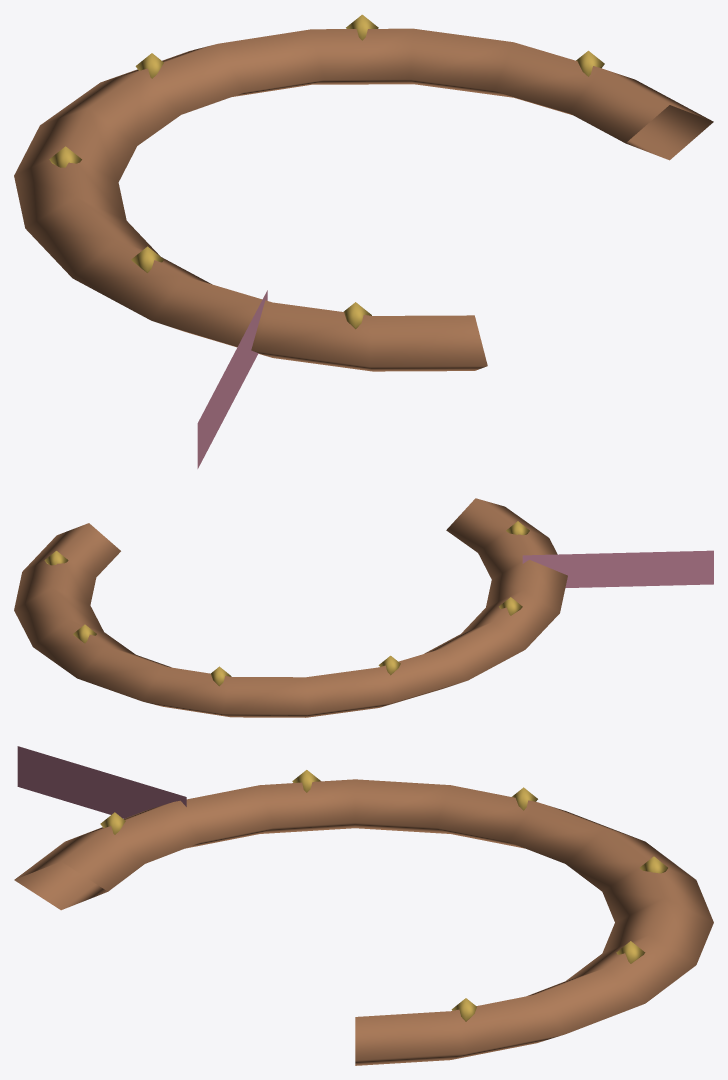
File: col_horseshoe.gltf
3 views of the same model, one above another, from view 1: azimuth 30°, elevation 25°; view 2: azimuth 150°, elevation 25°; view 3: azimuth 270°, elevation 25° (orthographic). The views are drawn at different scales.
Visible parts, largest first — view 1: col_horseshoe; view 2: col_horseshoe; view 3: col_horseshoe.
Boxes of the visible parts, box(x1,y1,x2,y2) form: col_horseshoe: box(14, 14, 713, 468); col_horseshoe: box(14, 498, 713, 717); col_horseshoe: box(14, 746, 713, 1065).
Size of what is drawn, in the model's own units: 0.128 by 0.013 by 0.1245.
